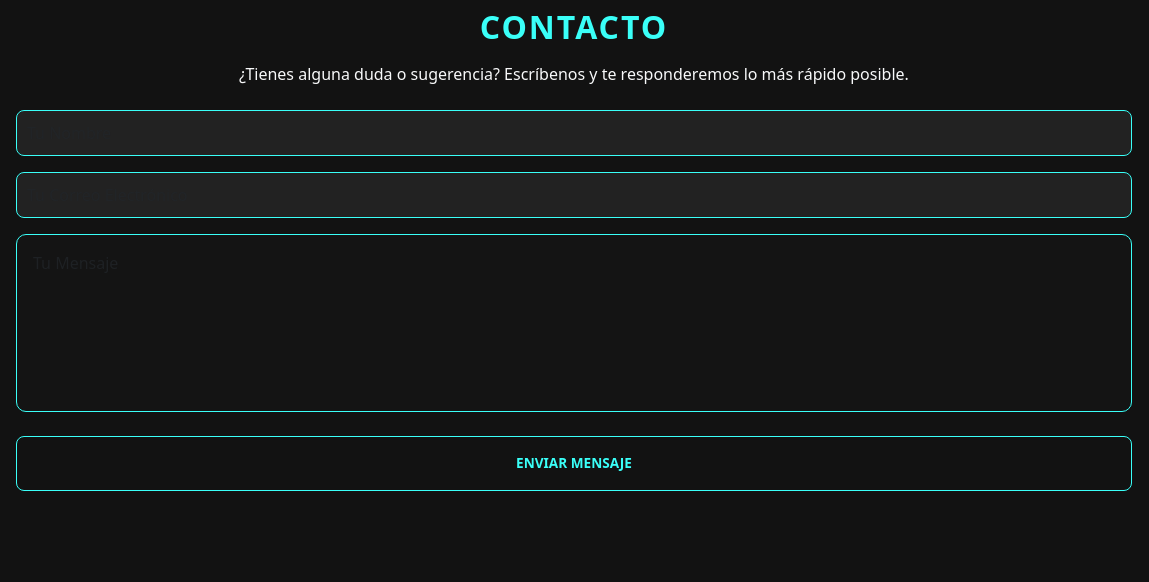
Scenario: Contacto Page › muestra el mensaje de éxito y limpia el formulario al enviar
Type "Ana Gómez" into the field with placeholder "Tu Nombre" at (574, 133), box [16,110,1132,156]
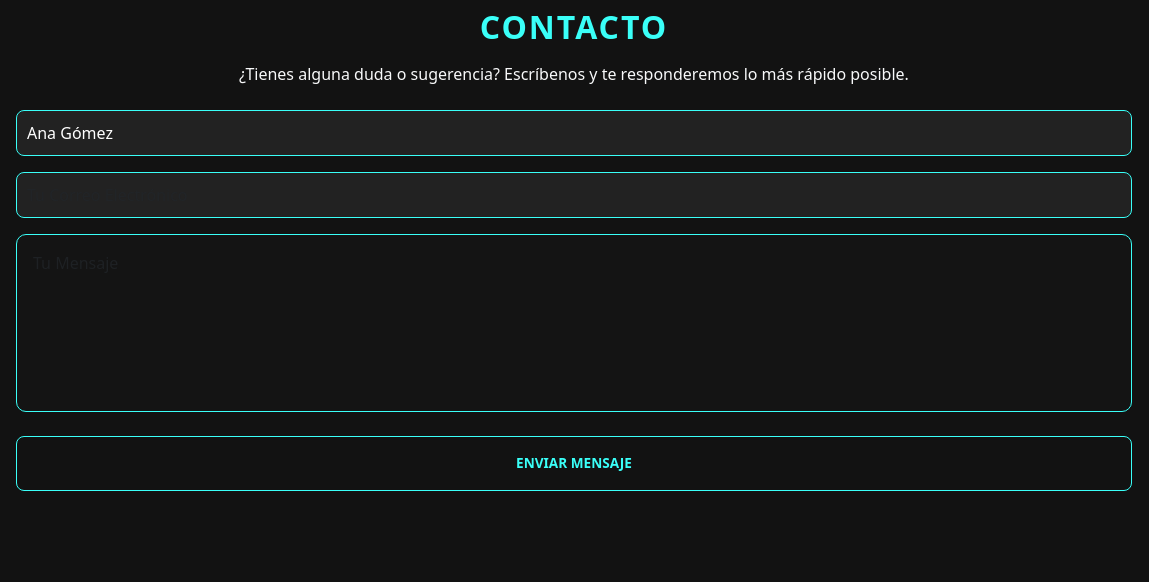
Type "ana@ejemplo.com" into the field with placeholder "Tu Correo Electrónico" at (574, 195), box [16,172,1132,218]
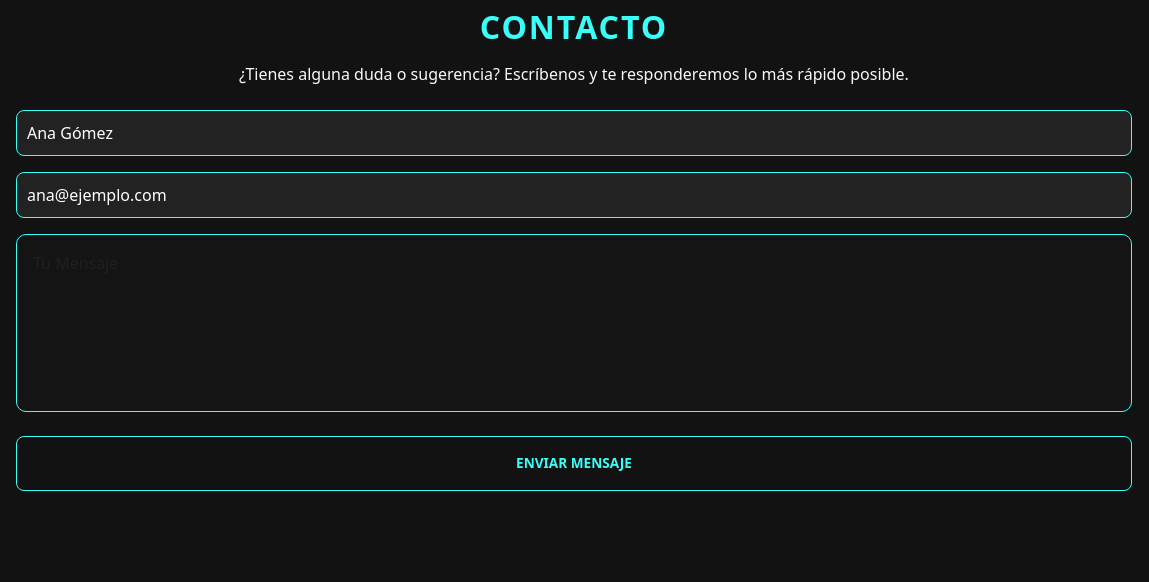
Type "Excelente página, me encanta." into the text box with placeholder "Tu Mensaje" at (574, 323), box [16,234,1132,412]
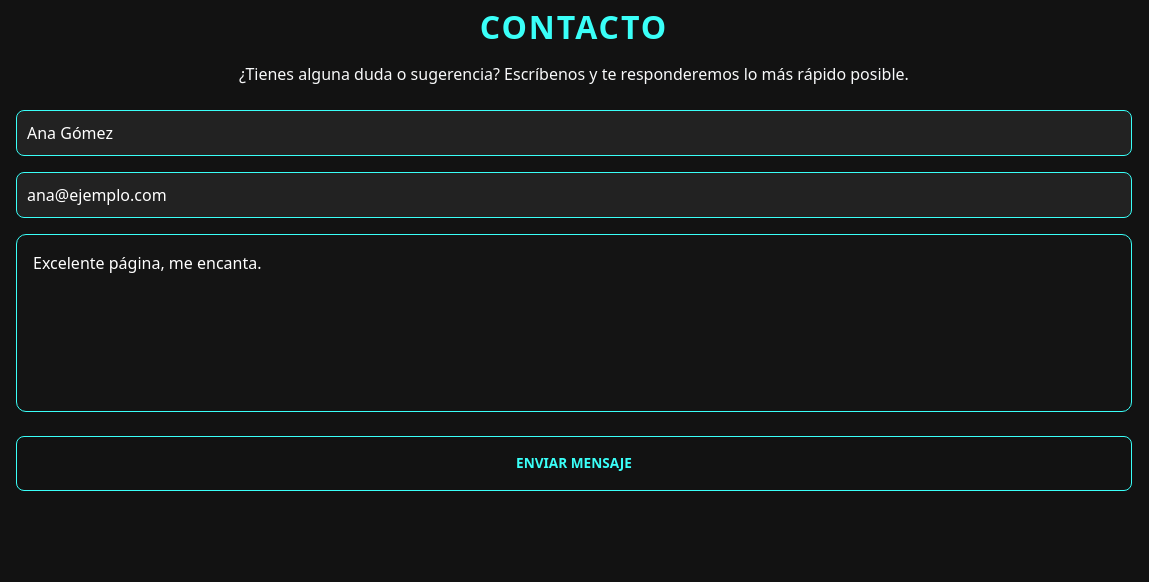
Click the button "ENVIAR MENSAJE" at (574, 464), box [16,436,1132,491]
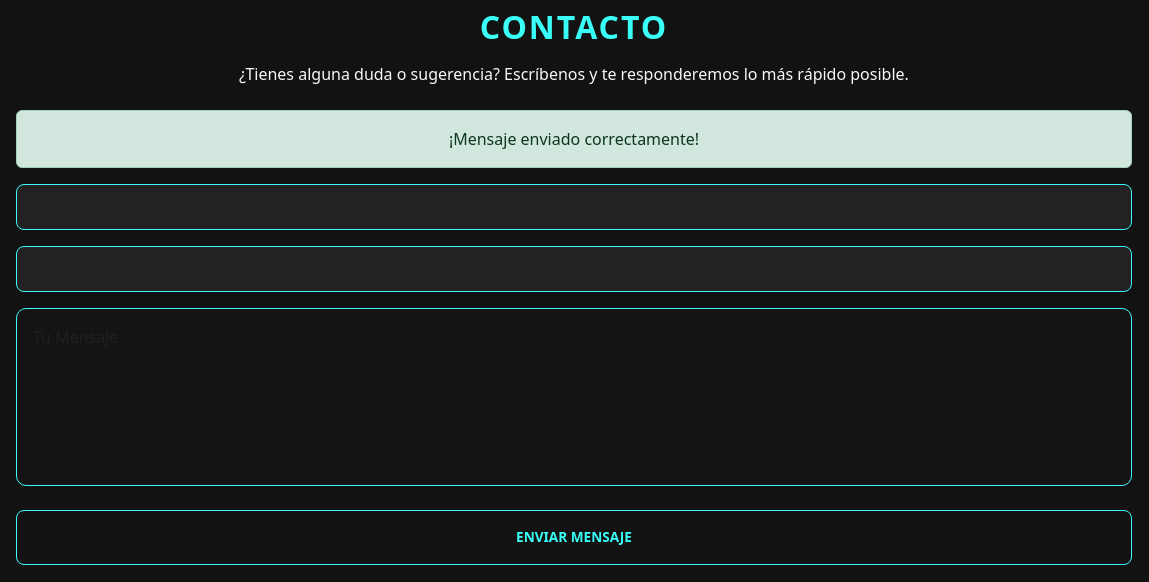
Expected: the text "¡Mensaje enviado correctamente!" is shown, [16,110,1132,168]
Expected: the field with placeholder "Tu Nombre" is empty, [16,184,1132,230]
Expected: the field with placeholder "Tu Correo Electrónico" is empty, [16,246,1132,292]
